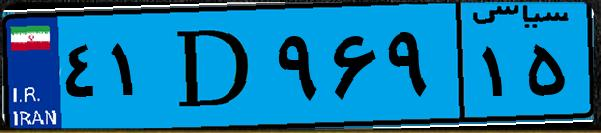1: (475, 38, 525, 113), (110, 28, 158, 98)
4: (57, 26, 110, 100)
5: (525, 38, 570, 115)
6: (330, 28, 385, 110)
9: (270, 28, 330, 110), (385, 28, 445, 110)
D: (158, 12, 270, 120)
